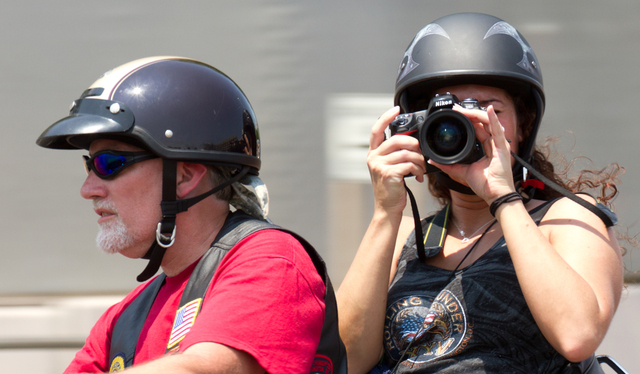helmet: (64, 55, 276, 187), (390, 14, 559, 113)
